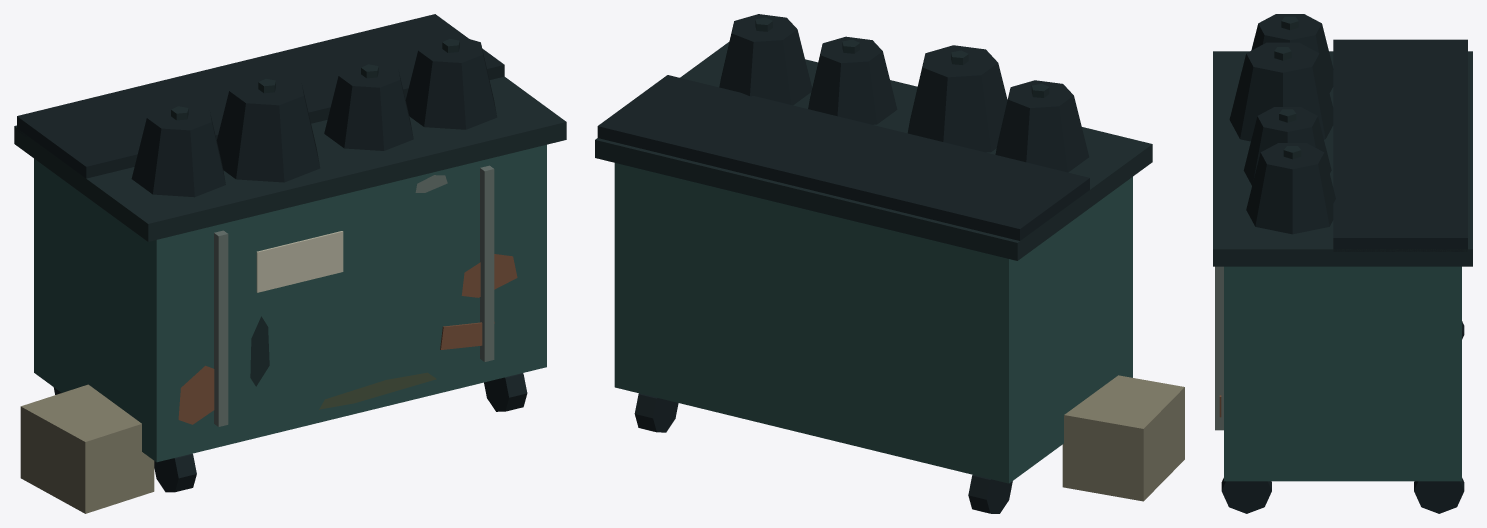
Rendered from v115-yard-dumpster-refuse.glb.
The picture shows the model from 3 angles, left to right: view 1: azimuth 30°, elevation 25°; view 2: azimuth 150°, elevation 25°; view 3: azimuth 270°, elevation 25°; orthographic projection. The views are drawn at different scales.
Parts seen in each view (by area): view 1: dumpster-refuse; view 2: dumpster-refuse; view 3: dumpster-refuse.
Part boxes in pixels (left/top/right/bottom): dumpster-refuse: left=14, top=14, right=566, bottom=513; dumpster-refuse: left=595, top=14, right=1184, bottom=513; dumpster-refuse: left=1213, top=14, right=1472, bottom=513.
Bounding box in the file's own units: 2.23 × 1.63 × 1.08.
